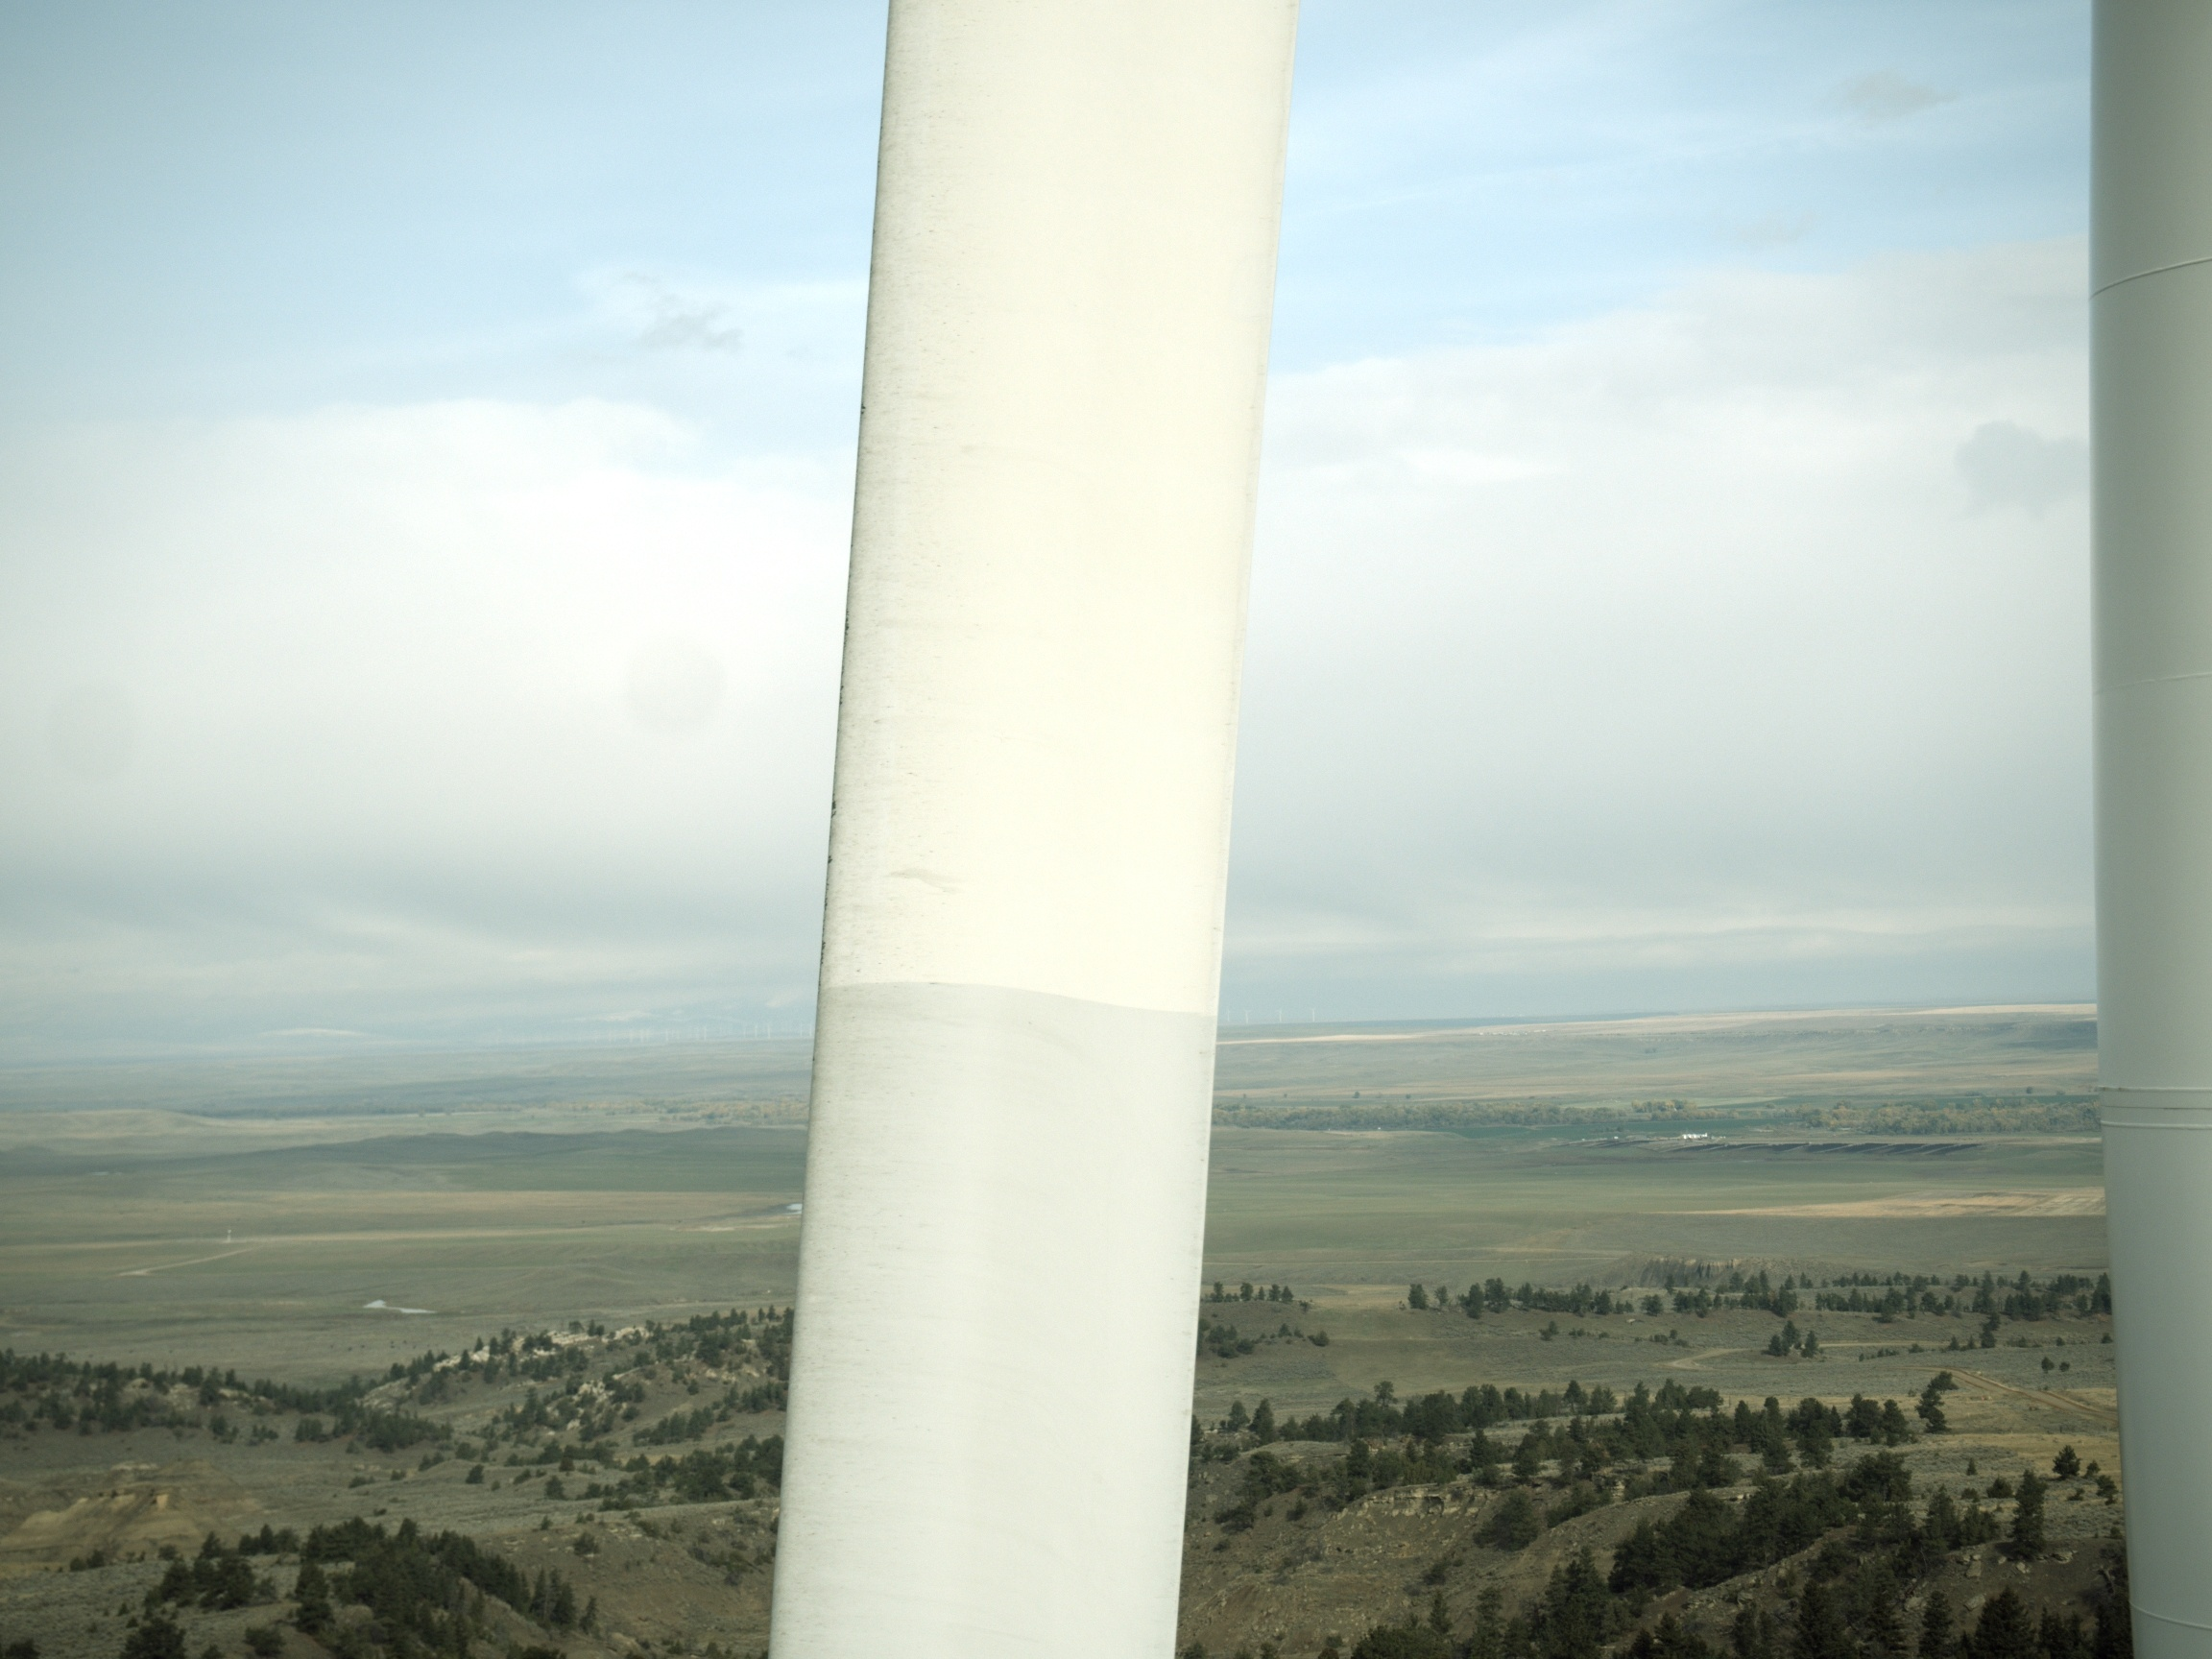chip: (831, 800, 838, 810), (827, 856, 833, 864), (845, 624, 850, 631), (831, 812, 838, 817), (822, 939, 826, 950), (820, 953, 824, 964), (860, 404, 866, 410), (840, 685, 845, 690), (845, 617, 850, 620), (860, 411, 864, 413), (840, 701, 841, 704)
